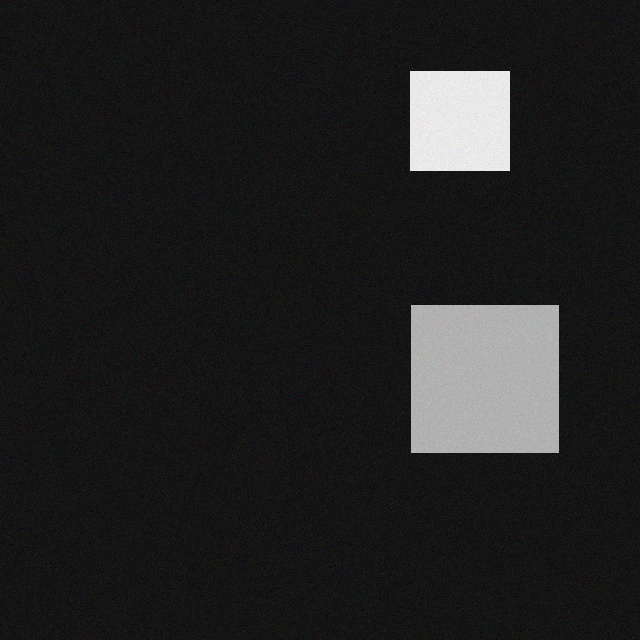square: (416, 305, 563, 452), (415, 71, 514, 170)
